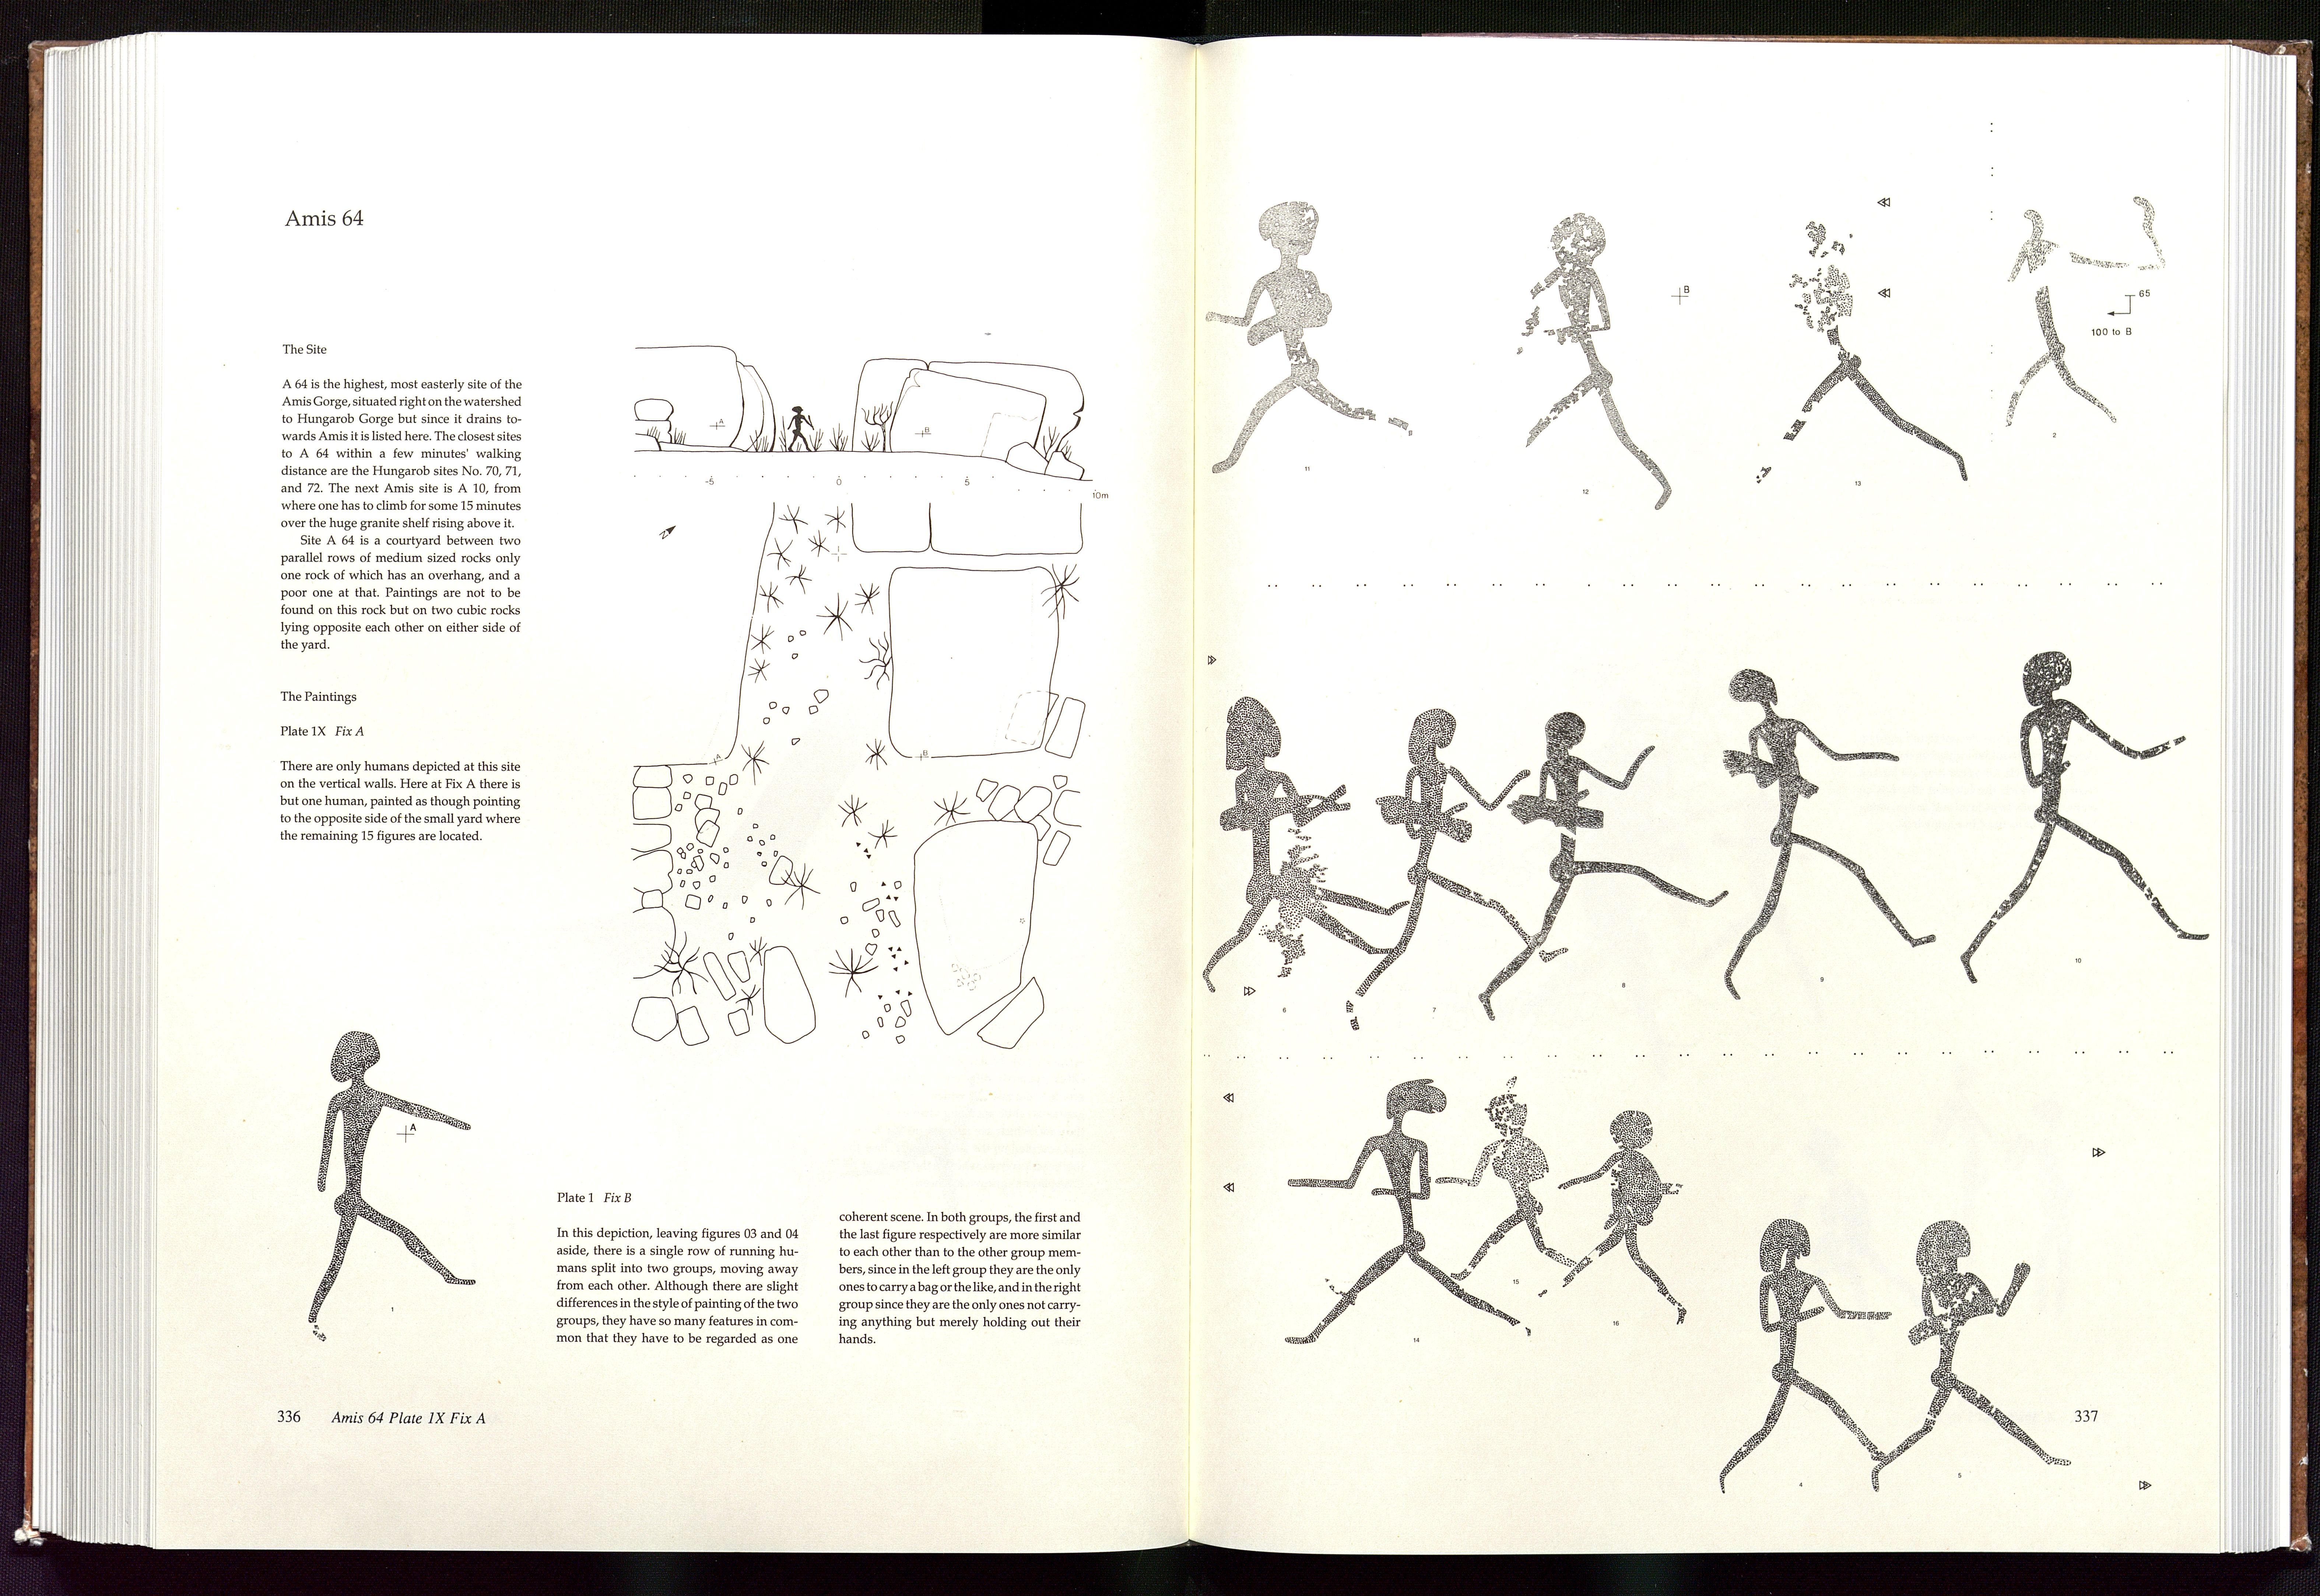human: (1956, 641, 2214, 982), (1712, 667, 1941, 1013), (1482, 710, 1728, 1025), (1280, 1062, 1531, 1368), (1343, 701, 1566, 1031), (1857, 1211, 2087, 1491), (1751, 206, 1969, 495), (298, 1025, 494, 1346), (1198, 197, 1417, 477), (1198, 700, 1405, 986), (1510, 214, 1678, 516), (1713, 1217, 1891, 1493), (1993, 200, 2128, 448), (1548, 1104, 1698, 1327), (1439, 1074, 1589, 1291)
